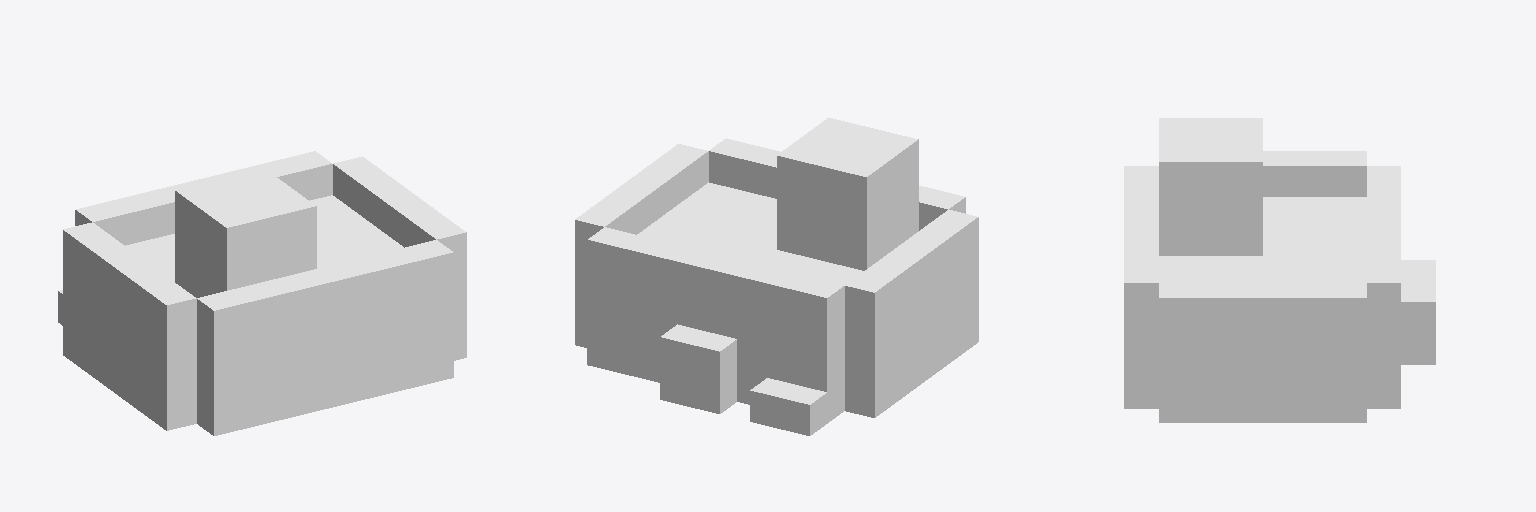
File: BigHouse-2.obj
3 views of the same model, side by side, from view 1: azimuth 30°, elevation 25°; view 2: azimuth 150°, elevation 25°; view 3: azimuth 270°, elevation 25° (orthographic).
Visible parts, largest first — view 1: object 1; view 2: object 1; view 3: object 1.
Boxes of the visible parts, x1=… form: object 1: x1=58, y1=151, x2=466, y2=435; object 1: x1=575, y1=118, x2=978, y2=435; object 1: x1=1124, y1=118, x2=1435, y2=422.
Bounding box in the file's own units: 2 × 1.2 × 1.8.